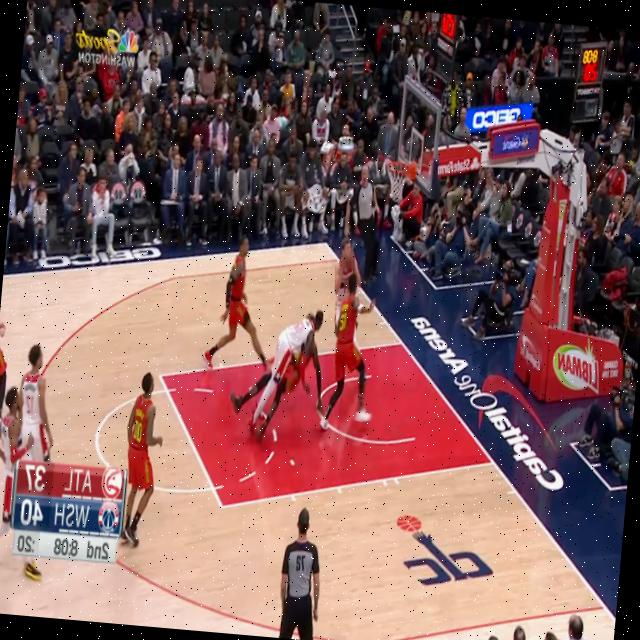Foul: (274, 336, 336, 507)
